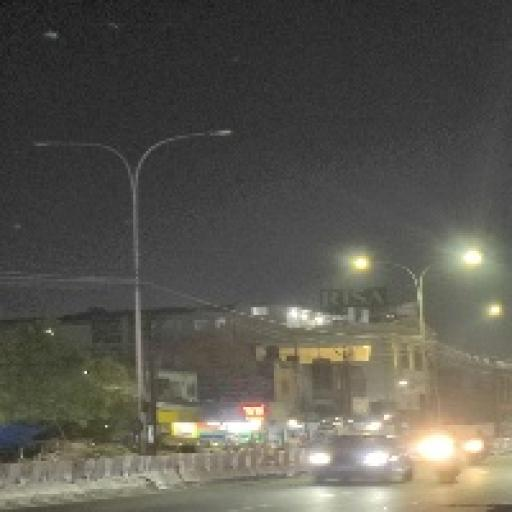Not Working: (198, 123, 232, 144), (30, 136, 62, 158)
Working: (456, 247, 486, 270), (347, 253, 375, 275), (483, 301, 505, 319)
